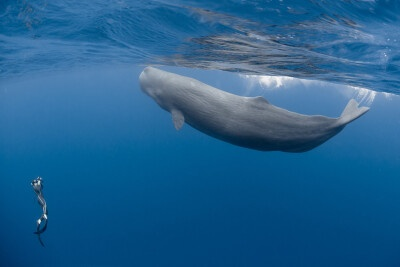fish: (137, 62, 371, 152)
